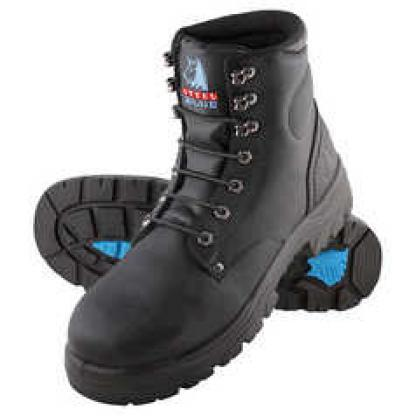bota: (33, 7, 389, 407)
